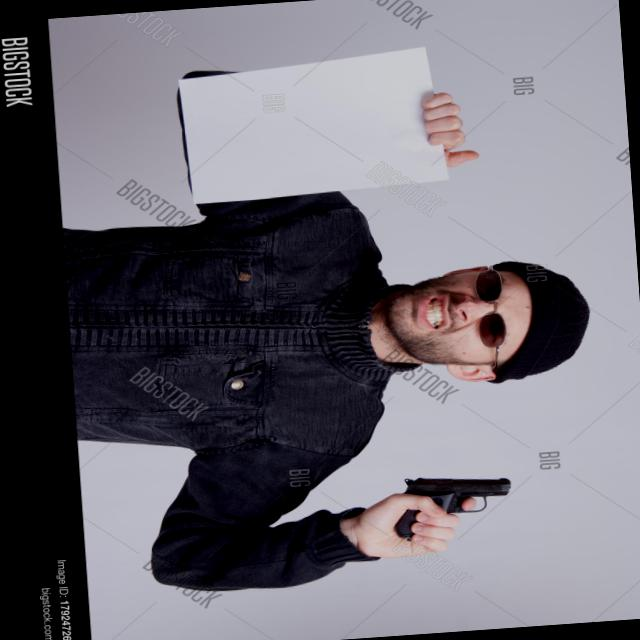handgun: (391, 467, 516, 544)
